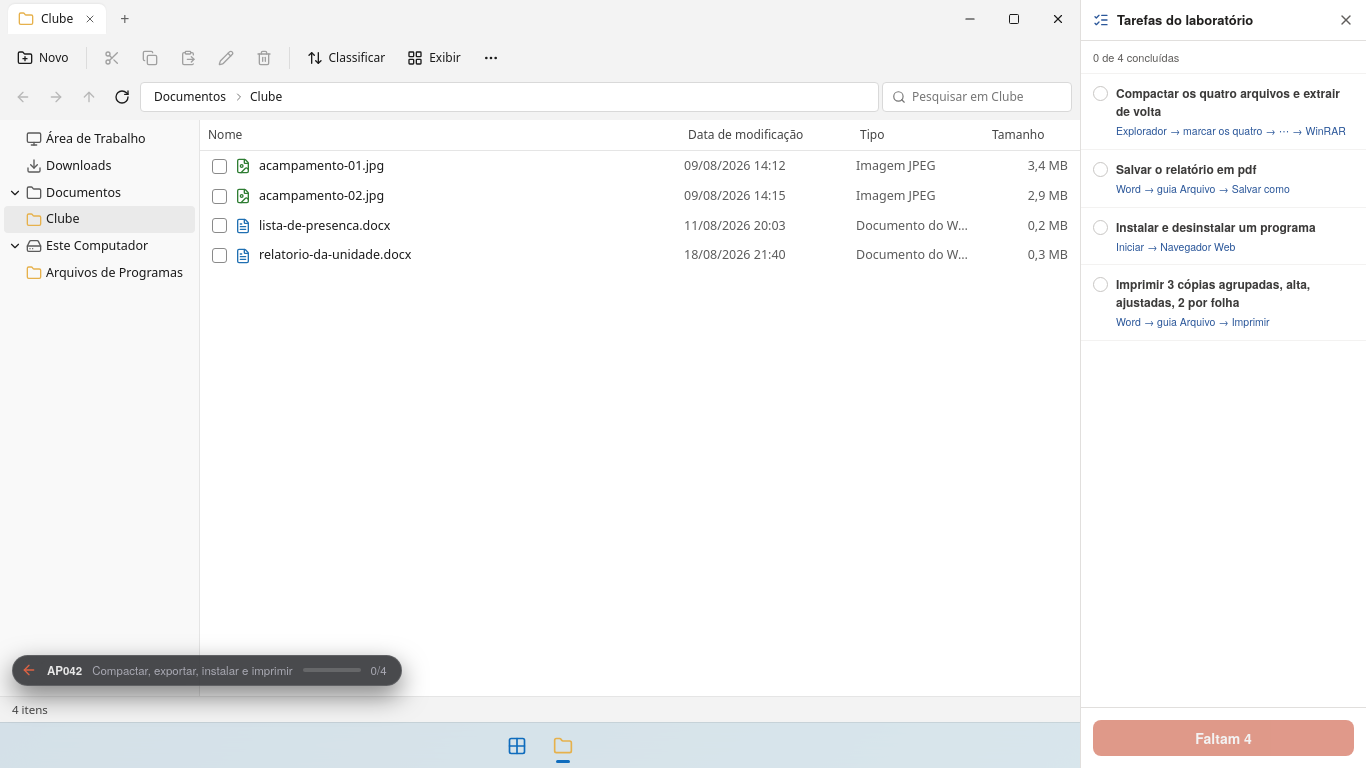
Test case: compactar e extrair › recusa compactar o que não foi marcado
The width and height of the screenshot is (1366, 768).
Click the element with class "win-linha" that starts with "acampamento-01.jpg" at [322, 166], box [204,152,1076,181]
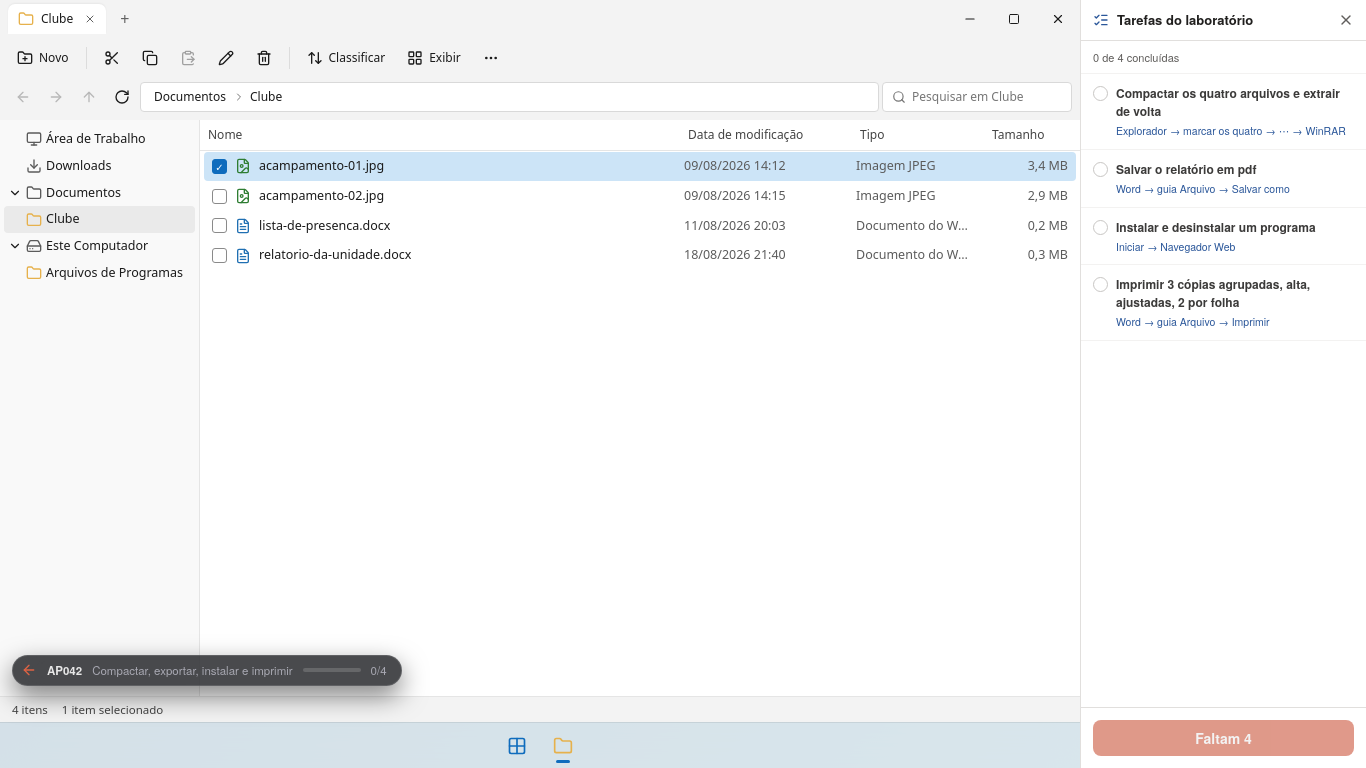
Click the button named "Ver mais" at [491, 58], box [474,43,508,73]
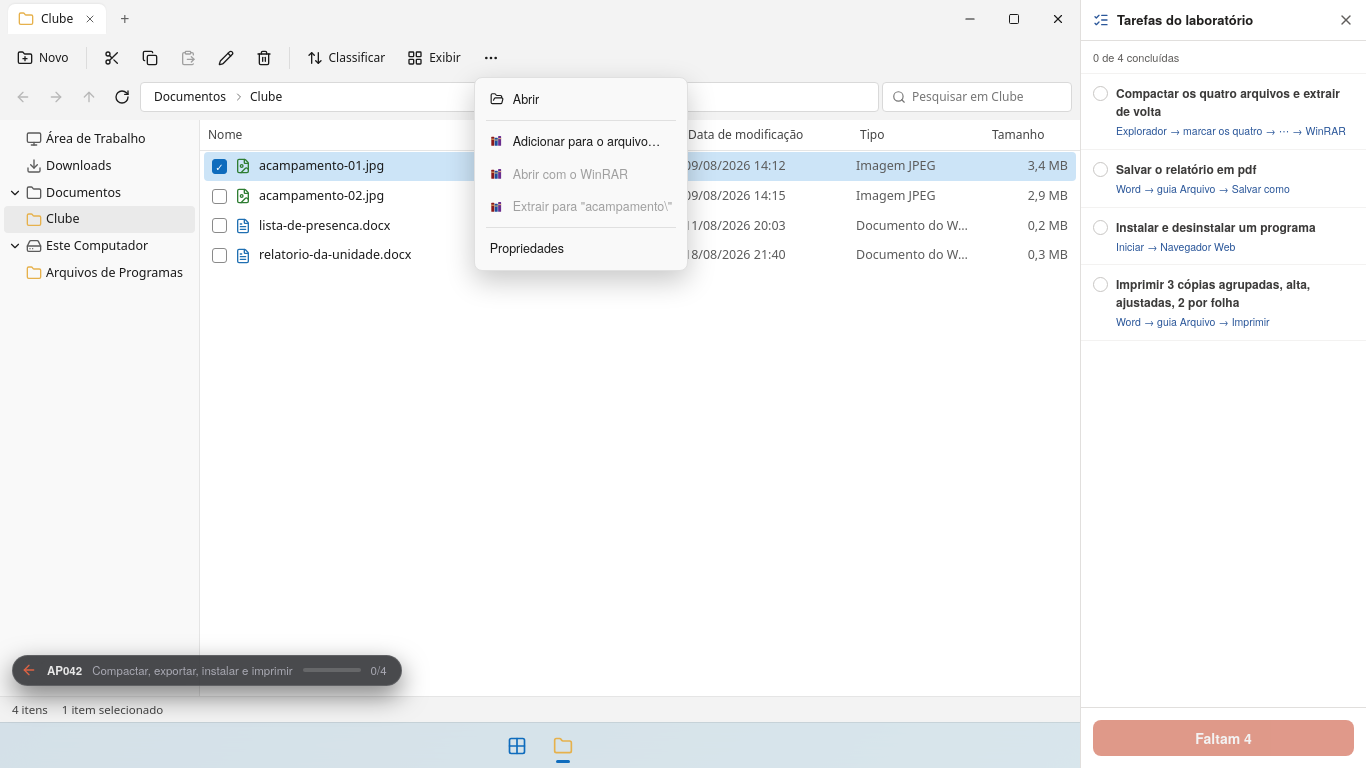
Click the button "Adicionar para o arquivo…" at [581, 141], box [480,125,682,158]
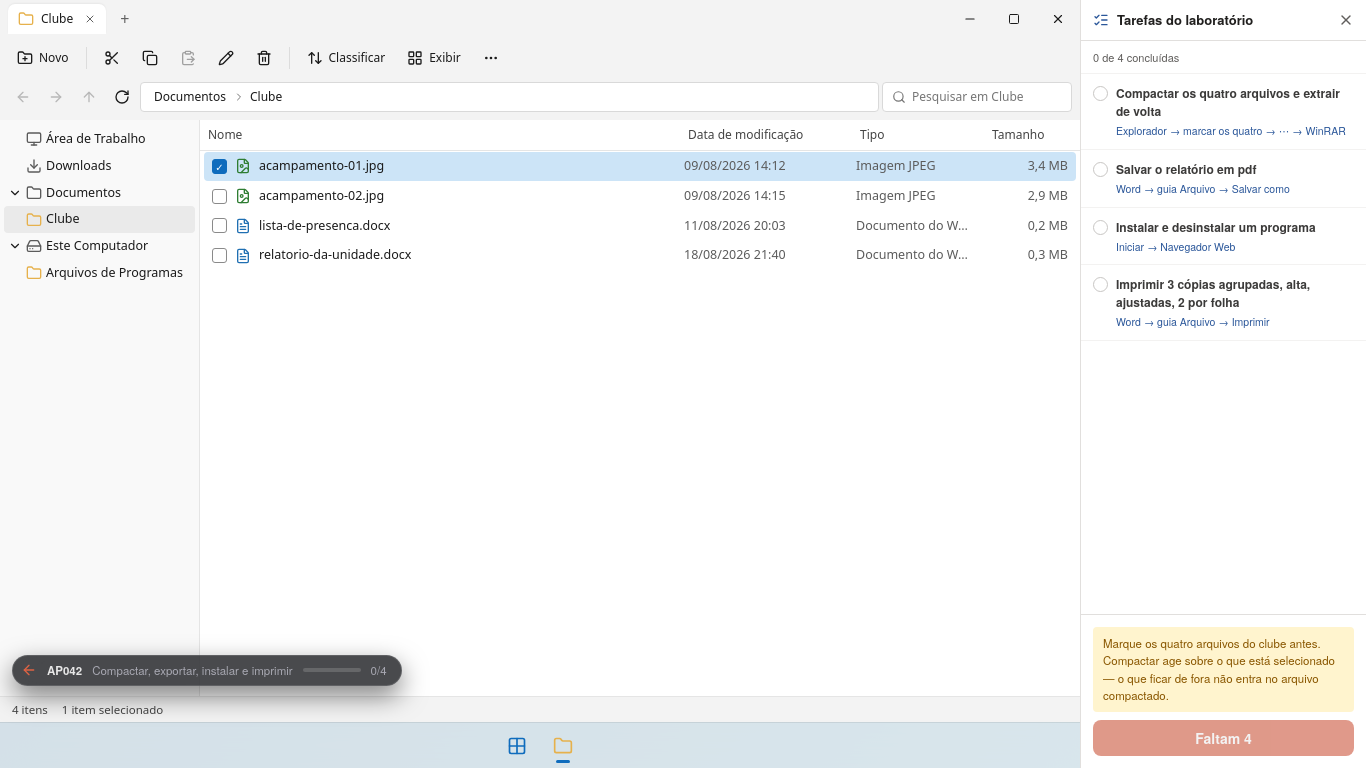
Result: the text "Marque os quatro arquivos" is shown at [1103,635,1335,703]
